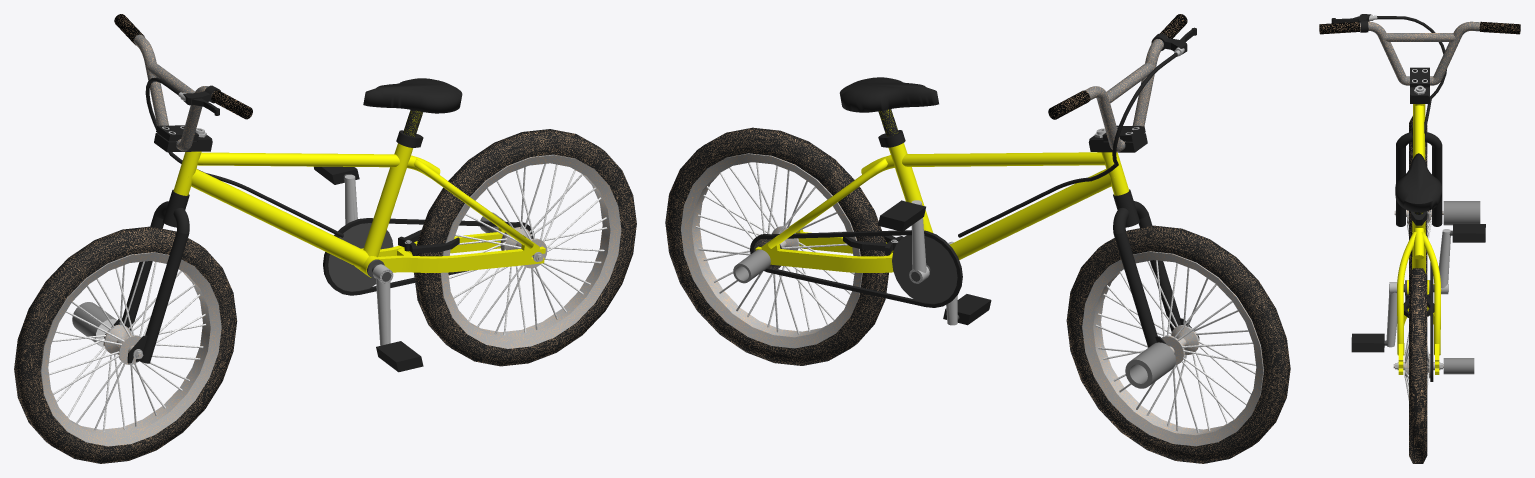
File: bicycle.dae
The picture shows the model from 3 angles, left to right: view 1: azimuth 30°, elevation 25°; view 2: azimuth 150°, elevation 25°; view 3: azimuth 270°, elevation 25°; orthographic projection. The views are drawn at different scales.
Visible parts, largest first — view 1: group_18 (×4), group_7 (×3), group_14 (×3), group_9 (×2), group_15, group_20 (×2), group_8 (×2), SketchUp (×2), group_10, group_6, group_28, group_27 (+4 smaller); view 2: group_18 (×4), group_7 (×3), group_14 (×3), group_9 (×2), SketchUp (×3), group_15, group_20 (×2), group_10, group_8 (×2), group_6 (×2), group_28, group_11 (+4 smaller); view 3: group_7, group_6 (×2), group_8 (×2), SketchUp (×3), group_14 (×2), group_20 (×2), group_9 (×2), group_2 (×2), group_27, group_11, group_4, group_13 (+4 smaller).
Boxes of the visible parts, box(x1,y1,x2,y2) form: group_18 (×4): box(14, 226, 237, 463); group_7 (×3): box(414, 129, 636, 366); group_14 (×3): box(378, 158, 545, 272); group_9 (×2): box(197, 143, 440, 256); group_15: box(188, 169, 368, 268); group_20 (×2): box(122, 201, 189, 363); group_8 (×2): box(363, 78, 462, 113); SketchUp (×2): box(72, 77, 343, 344); group_10: box(328, 223, 393, 291); group_6: box(133, 34, 214, 151); group_28: box(323, 218, 534, 295); group_27: box(376, 341, 423, 372); group_18 (×4): box(1066, 225, 1290, 463); group_7 (×3): box(665, 127, 888, 365); group_14 (×3): box(755, 158, 893, 272); group_9 (×2): box(861, 143, 1104, 232); SketchUp (×3): box(733, 53, 1177, 388); group_15: box(949, 169, 1111, 259); group_20 (×2): box(1113, 201, 1199, 347); group_10: box(892, 235, 957, 303); group_8 (×2): box(839, 77, 938, 112); group_6 (×2): box(1084, 39, 1163, 151); group_28: box(750, 230, 962, 307); group_11: box(878, 200, 925, 231); group_7: box(1409, 268, 1427, 463); group_6 (×2): box(1359, 21, 1480, 85); group_8 (×2): box(1395, 153, 1441, 212); SketchUp (×3): box(1377, 16, 1480, 374); group_14 (×2): box(1397, 232, 1441, 355); group_20 (×2): box(1396, 132, 1442, 226); group_9 (×2): box(1412, 105, 1425, 272); group_2 (×2): box(1319, 21, 1520, 34); group_27: box(1351, 333, 1384, 352); group_11: box(1452, 224, 1485, 242); group_4: box(1410, 67, 1429, 103); group_13: box(1438, 229, 1450, 286).
Size of the model in its own units: 68.28 by 24.64 by 40.6.
